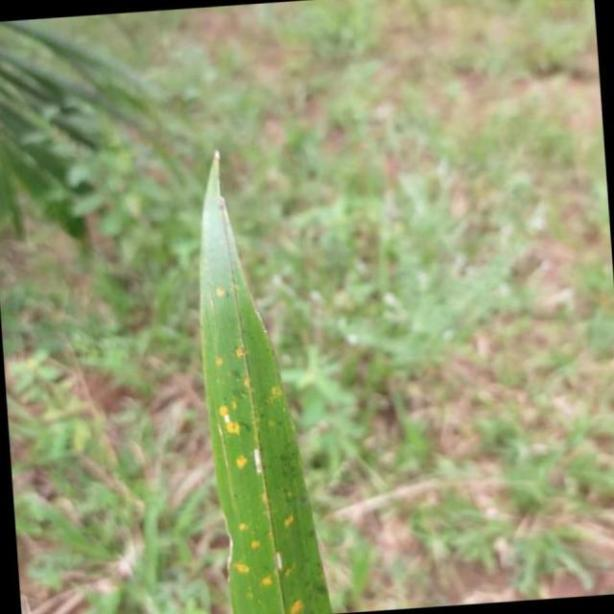Kalium: (195, 138, 337, 613)
